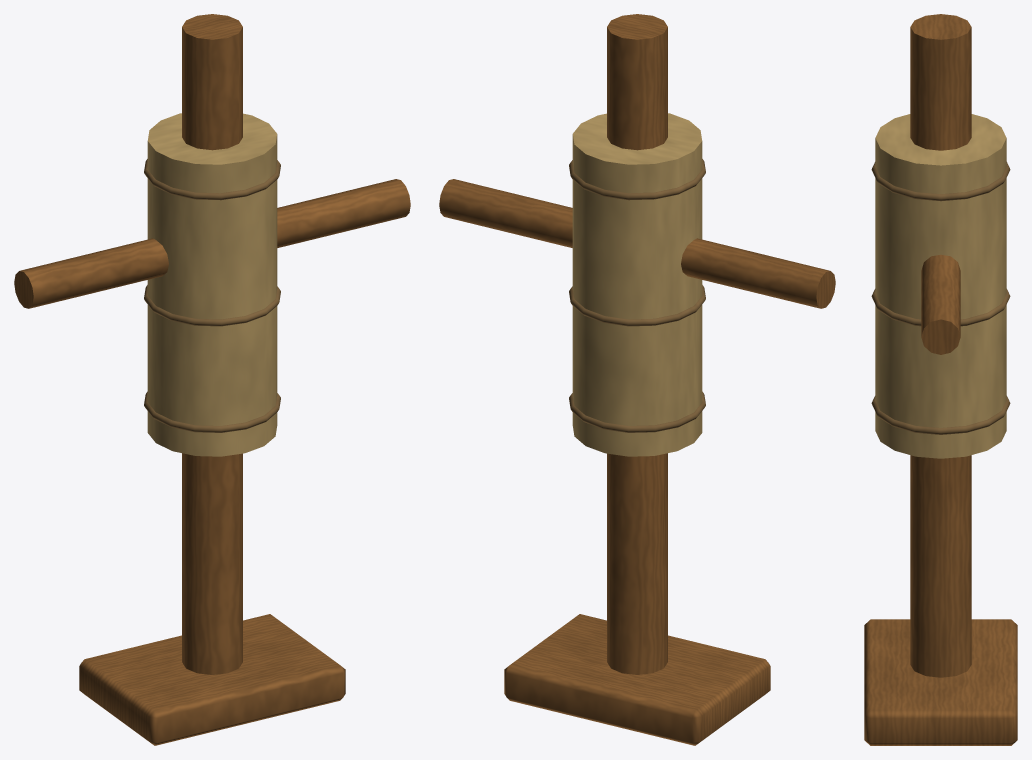
The model's file is Furn_Dummy.fbx.
The picture shows the model from 3 angles, left to right: view 1: azimuth 30°, elevation 25°; view 2: azimuth 150°, elevation 25°; view 3: azimuth 270°, elevation 25°; orthographic projection.
Parts seen in each view (by area): view 1: Furn_Dummy_Mesh; view 2: Furn_Dummy_Mesh; view 3: Furn_Dummy_Mesh.
Boxes of the visible parts, x1,y1,x2,y2 form: Furn_Dummy_Mesh: (14, 14, 410, 745); Furn_Dummy_Mesh: (439, 14, 835, 745); Furn_Dummy_Mesh: (864, 14, 1017, 745).
Size of the model in its own units: 1 by 1.7 by 0.35.
Materials: 3 (3 with a texture image).
